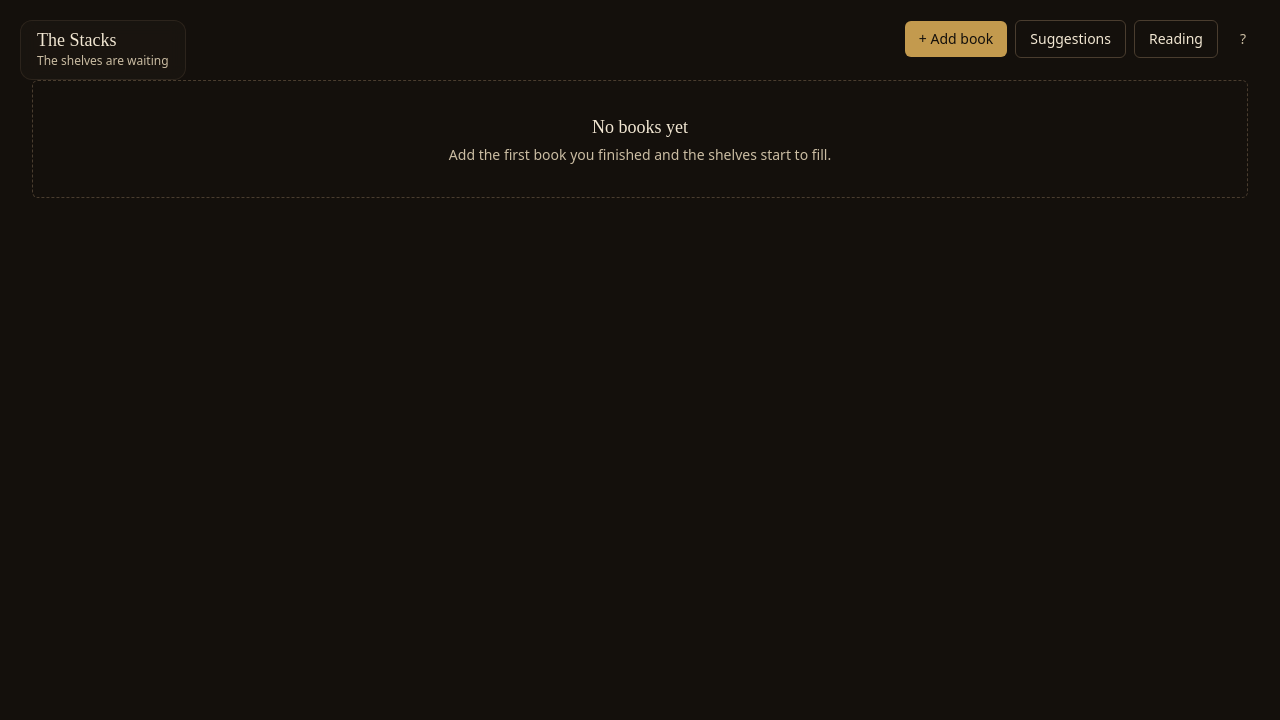
App › explains the controls from the help panel
This screenshot has width=1280, height=720.
Click the button named "How this works": (1243, 39) [1226,21,1260,57]
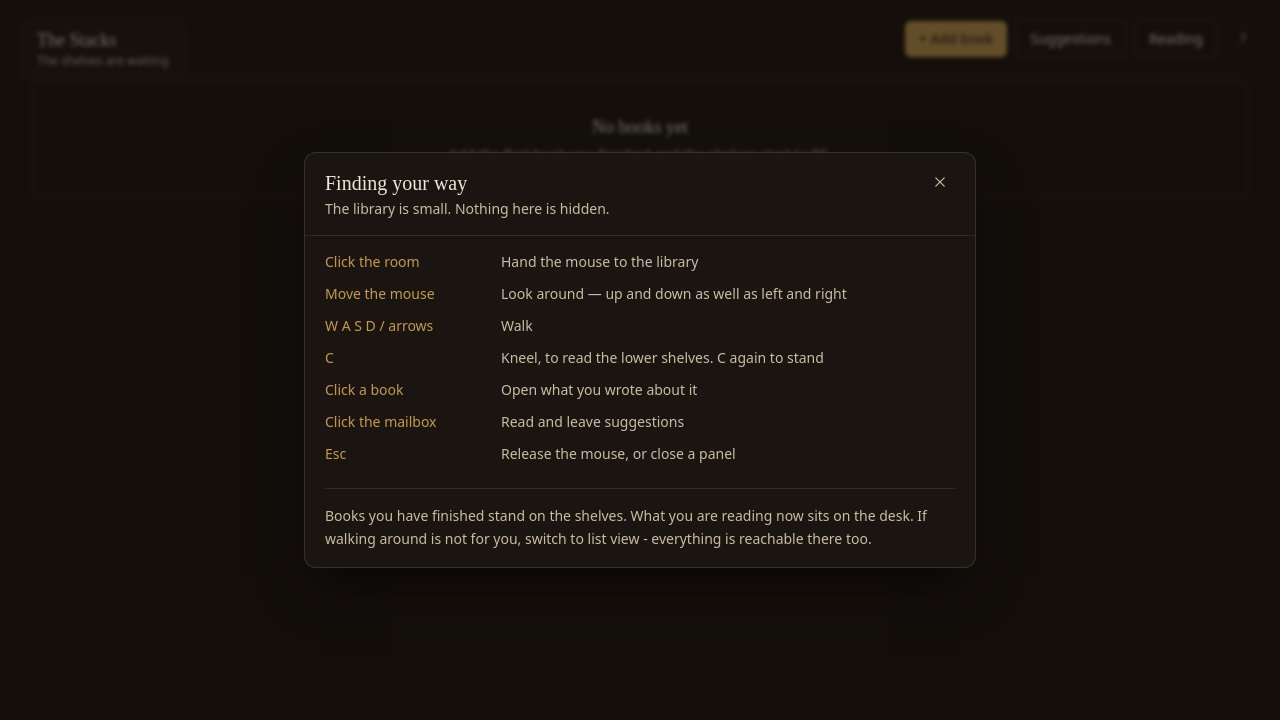
Expected: the dialog shows "W A S D", [325,316,433,335]
